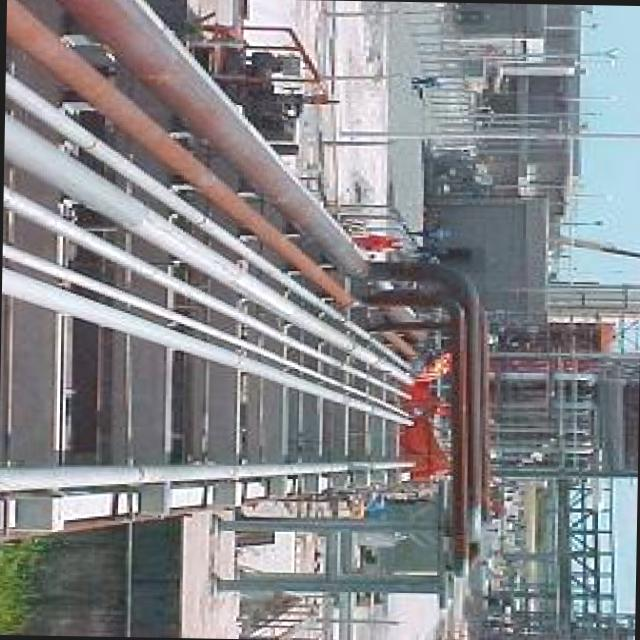gas: (5, 0, 418, 357), (4, 71, 408, 367), (3, 112, 416, 382), (2, 185, 404, 397), (66, 0, 373, 276), (1, 238, 408, 414), (0, 268, 413, 427), (362, 287, 471, 570), (369, 261, 486, 502), (0, 459, 421, 488)
